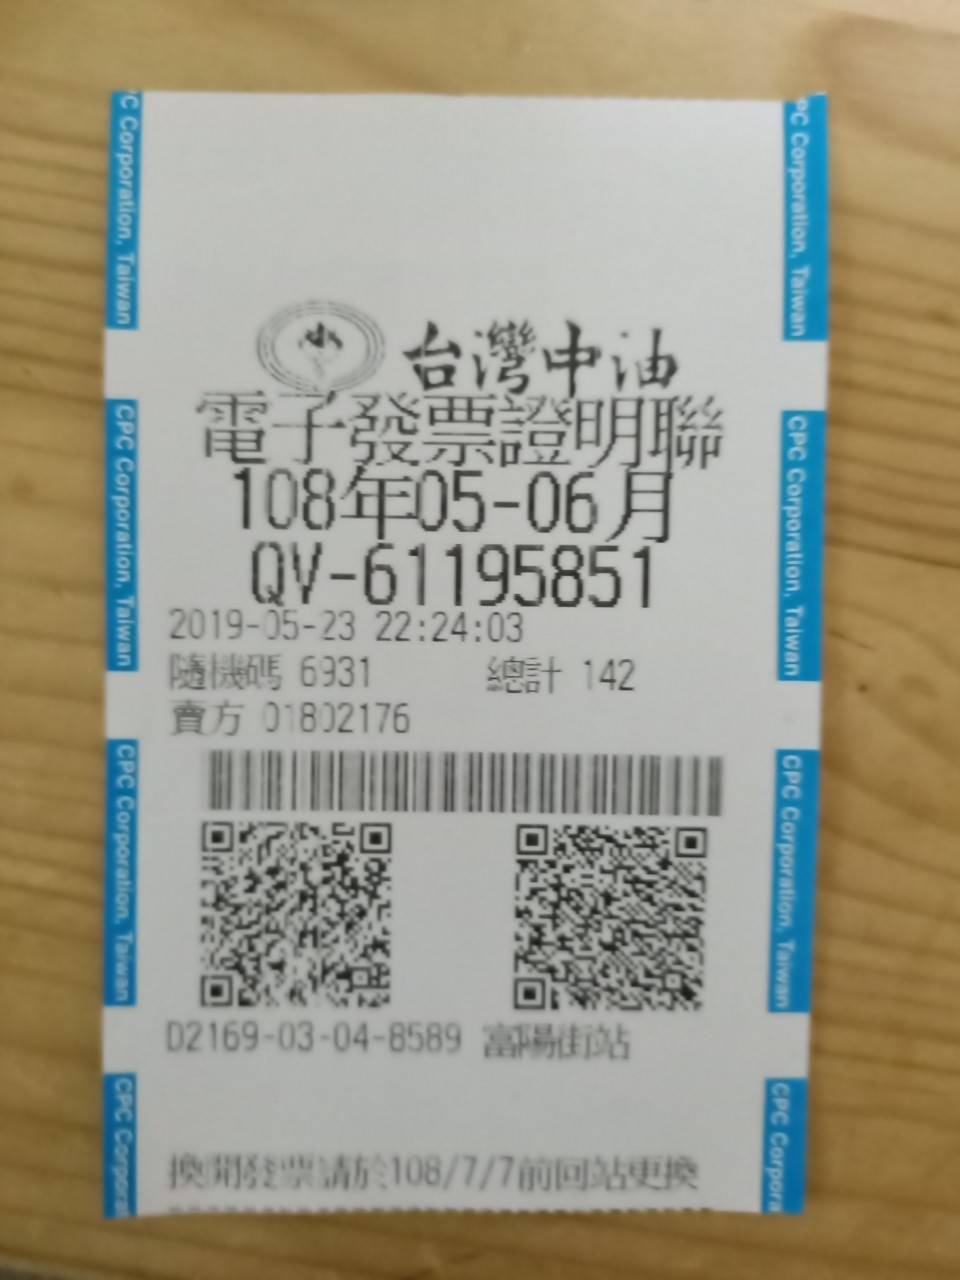Date_New: (235, 462, 678, 547)
Number_New: (361, 537, 658, 612)
